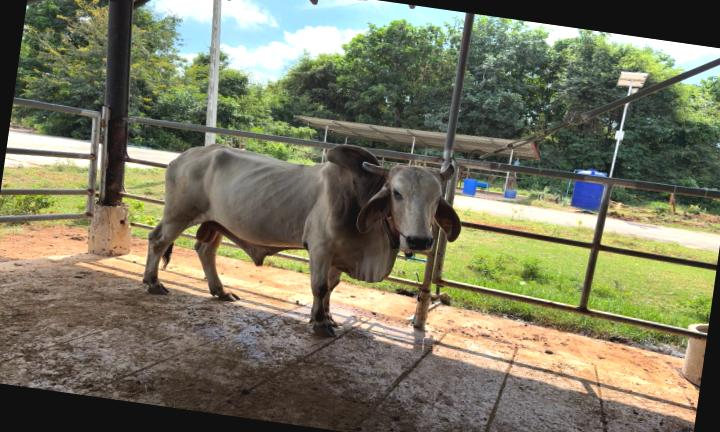Brahman: (143, 144, 460, 336)
